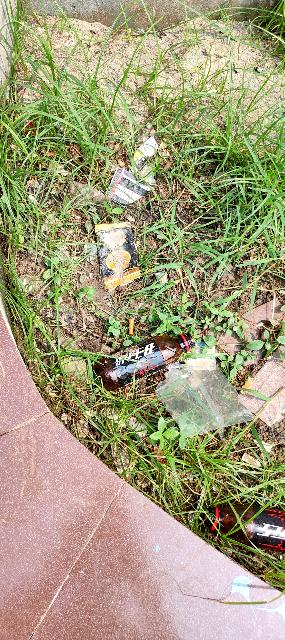bottle: (78, 325, 197, 392), (206, 483, 285, 571)
